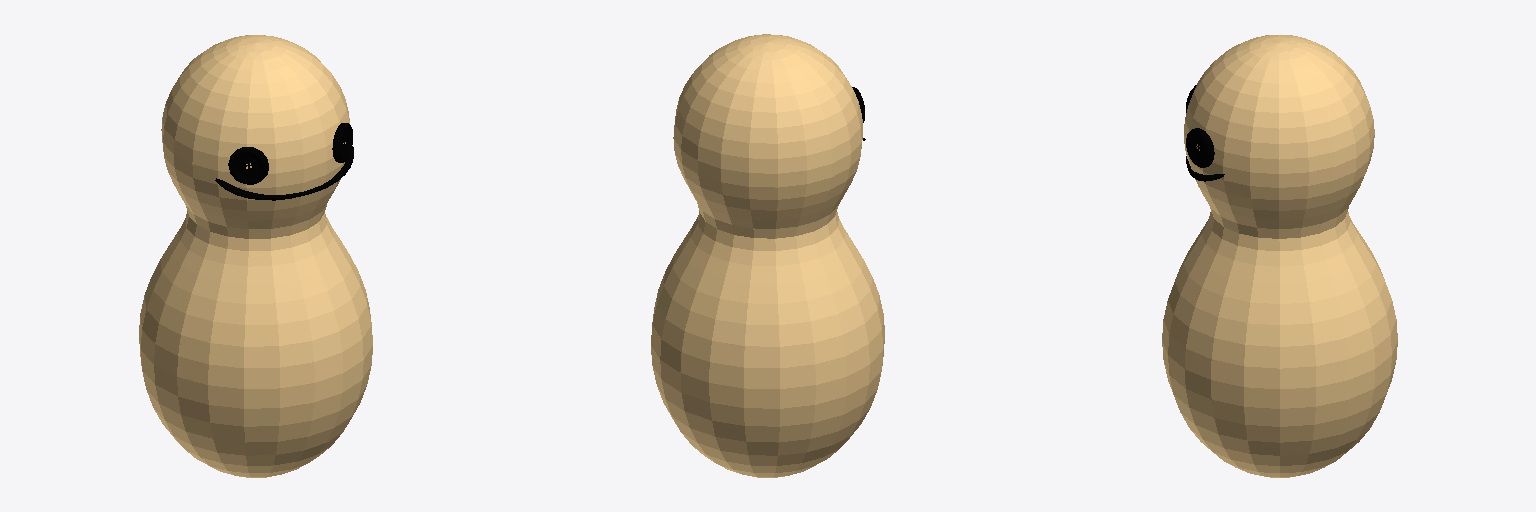
File: fedora-agent.obj
3 renders of one model, left to right at view 1: azimuth 30°, elevation 25°; view 2: azimuth 150°, elevation 25°; view 3: azimuth 270°, elevation 25°, orthographic.
Visible parts, largest first — view 1: Sphere.001; view 2: Sphere.001; view 3: Sphere.001.
Part boxes in pixels (x1,y1,x2,y2): Sphere.001: (139,35,372,477); Sphere.001: (651,34,884,477); Sphere.001: (1162,35,1397,477).
Bounding box in the file's own units: 0.9754 × 1.95 × 0.9766.